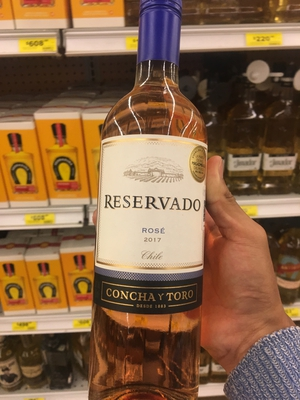reservado rose: (88, 2, 210, 383)
